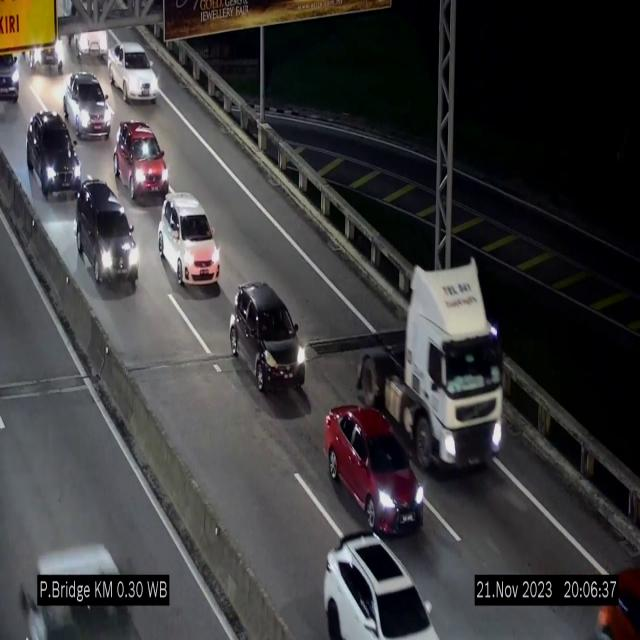Car: (324, 404, 424, 533), (324, 534, 439, 638), (67, 176, 143, 294), (229, 284, 307, 398), (22, 104, 84, 205), (158, 190, 220, 286), (62, 62, 125, 144), (588, 549, 640, 640), (116, 120, 169, 201), (109, 42, 159, 102), (24, 19, 69, 78), (0, 45, 23, 105)
Truck: (354, 253, 509, 481)
